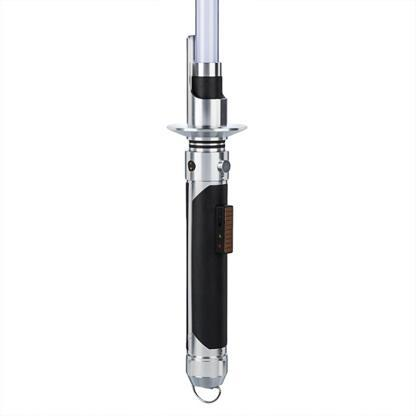lightsaber: (159, 1, 256, 410)
